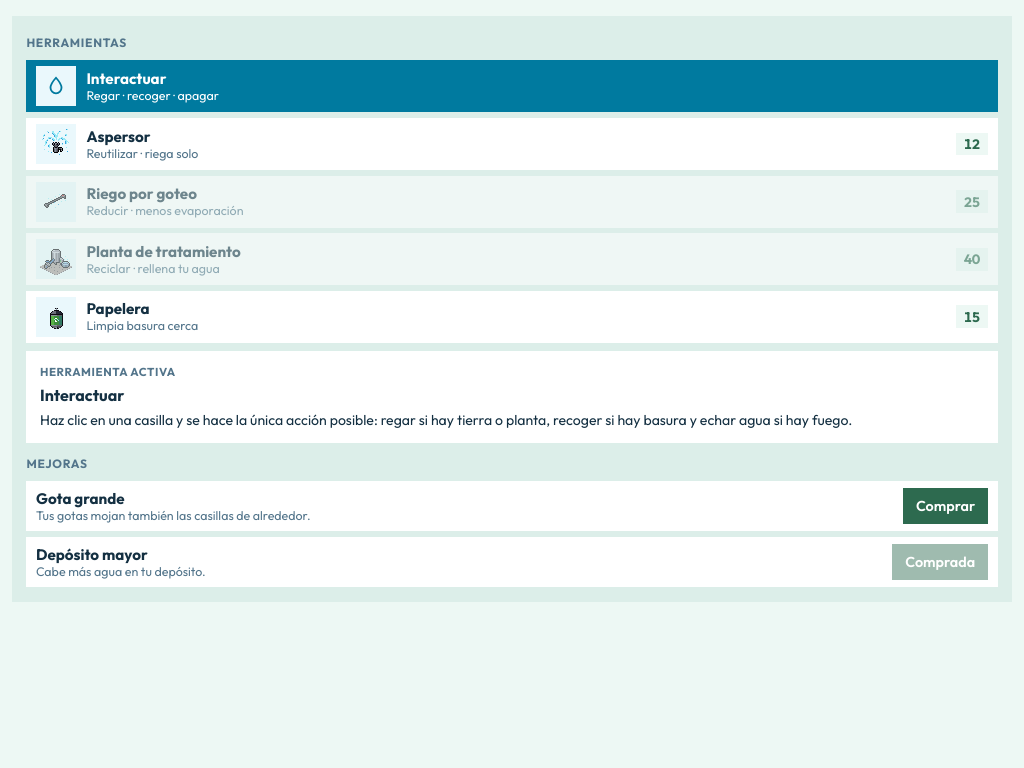
Test: ToolPalette › al pasar el ratón cambia la tarjeta a «Para qué sirve»
The width and height of the screenshot is (1024, 768).
Hover over the button "Papelera Limpia basura cerca 15": [56, 317] box top-left (26, 291), bottom-right (998, 343)
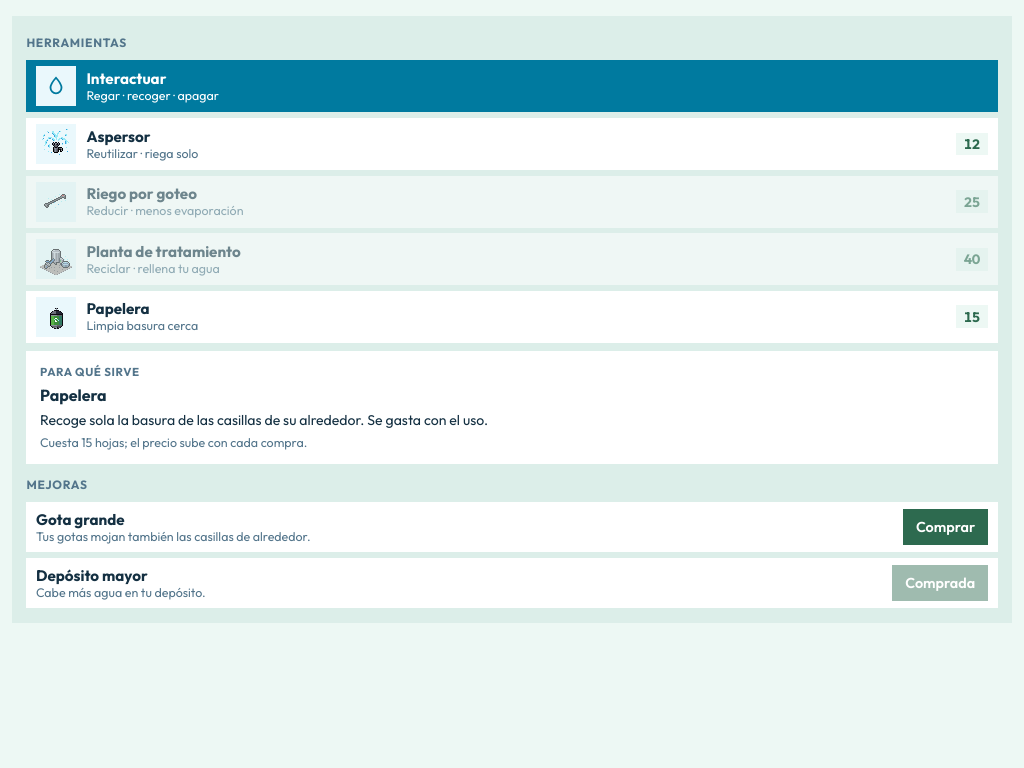
Check: the text "Para qué sirve" is shown, box top-left (40, 364), bottom-right (140, 379)
Check: the text "Recoge sola la basura" is shown, box top-left (40, 411), bottom-right (488, 429)
